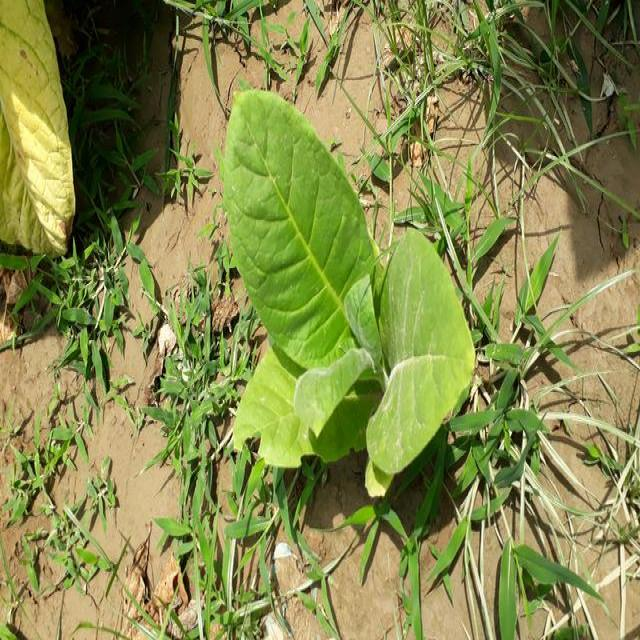crop: (222, 94, 484, 497), (0, 8, 88, 258)
